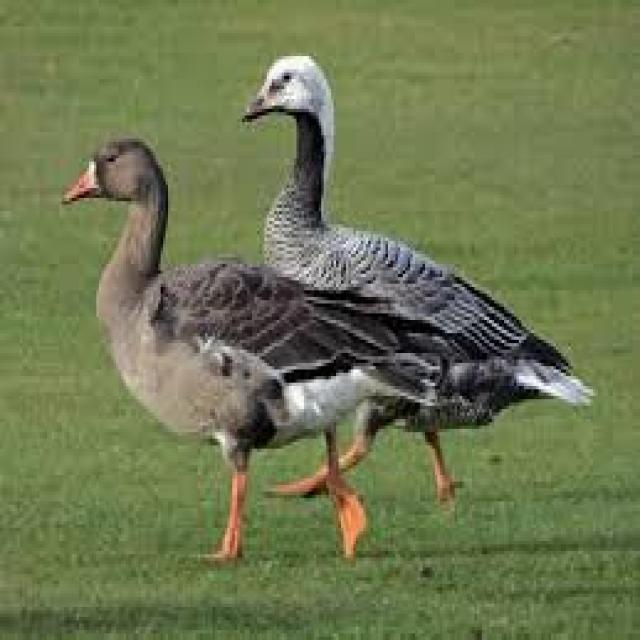Goose: (59, 131, 441, 567), (240, 49, 583, 433)
